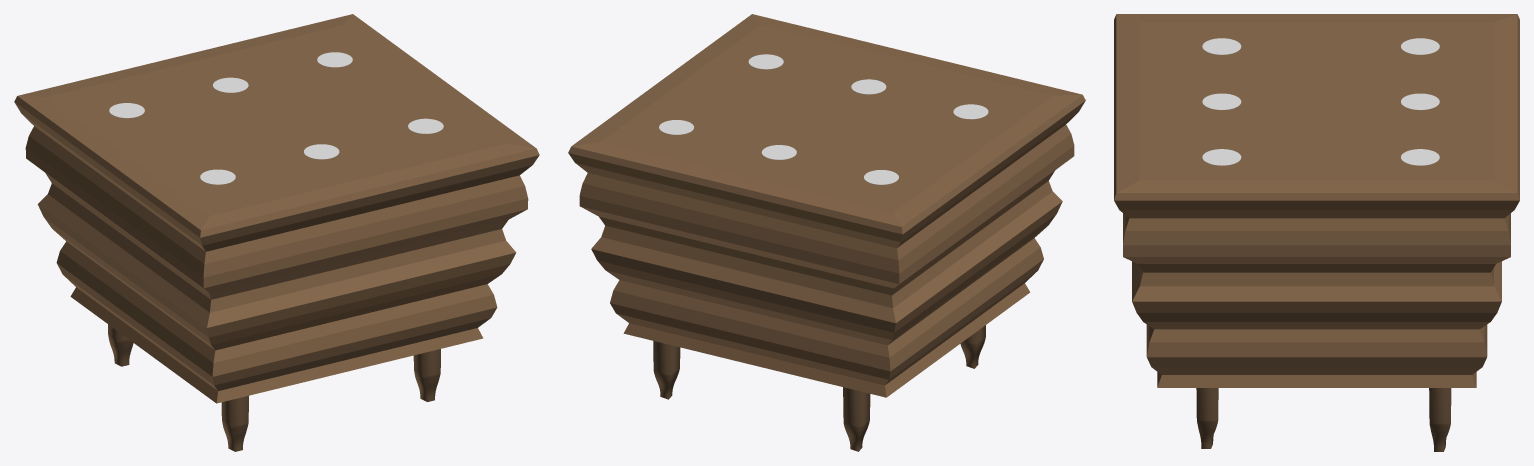
The model's file is Left products table.fbx.
3 views of the same model, side by side, from view 1: azimuth 30°, elevation 25°; view 2: azimuth 150°, elevation 25°; view 3: azimuth 270°, elevation 25° (orthographic). The views are drawn at different scales.
Visible parts, largest first — view 1: Table base.002, Table leg.009, Table leg.008, Table leg.011; view 2: Table base.002, Table leg.011, Table leg.010, Table leg.009; view 3: Table base.002, Table leg.010, Table leg.008, Dot.011, Dot.007, Dot.009, Dot.006, Dot.008, Dot.010.
Boxes of the visible parts, bbox=[...] form: Table base.002: bbox=[14, 14, 539, 403]; Table leg.009: bbox=[221, 395, 248, 451]; Table leg.008: bbox=[413, 349, 440, 401]; Table leg.011: bbox=[108, 324, 133, 366]; Table base.002: bbox=[568, 14, 1085, 397]; Table leg.011: bbox=[843, 387, 870, 451]; Table leg.010: bbox=[653, 341, 680, 399]; Table leg.009: bbox=[960, 325, 985, 368]; Table base.002: bbox=[1114, 14, 1519, 387]; Table leg.010: bbox=[1429, 388, 1451, 451]; Table leg.008: bbox=[1196, 388, 1218, 448]; Dot.011: bbox=[1401, 149, 1439, 165]; Dot.007: bbox=[1202, 93, 1241, 110]; Dot.009: bbox=[1401, 38, 1439, 54]; Dot.006: bbox=[1202, 149, 1241, 165]; Dot.008: bbox=[1202, 38, 1241, 54]; Dot.010: bbox=[1401, 93, 1439, 110].
Size of the model in its own units: 1.72 by 1.29 by 1.63.
